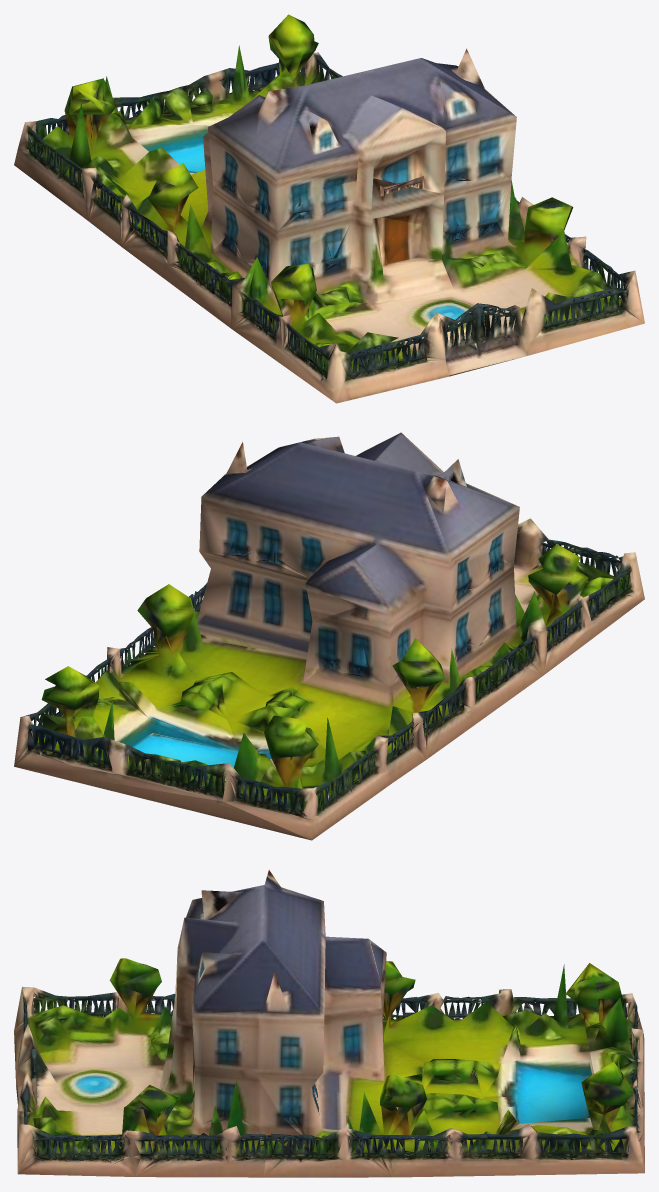
File: house-mansion.glb
The picture shows the model from 3 angles, top to bottom: view 1: azimuth 30°, elevation 25°; view 2: azimuth 150°, elevation 25°; view 3: azimuth 270°, elevation 25°; orthographic projection. The views are drawn at different scales.
Visible parts, largest first — view 1: low; view 2: low; view 3: low.
Boxes of the visible parts, box(x1,y1,x2,y2) form: low: box(14, 14, 644, 403); low: box(14, 432, 644, 840); low: box(14, 870, 644, 1177).
Size of the model in its own units: 0.5461 by 0.3338 by 0.9822.
Materials: 1 (1 with a texture image).
